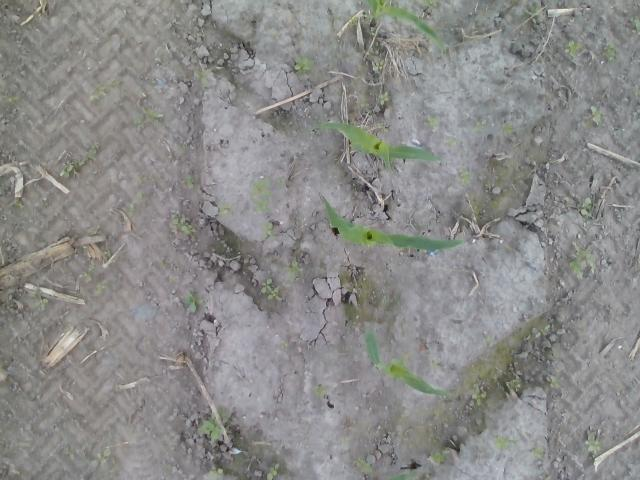Maize: (318, 194, 464, 252), (364, 325, 451, 397), (314, 121, 442, 168), (366, 0, 444, 51), (378, 471, 416, 480)
Weeds: (568, 247, 596, 281), (200, 408, 226, 440), (250, 176, 272, 213), (133, 106, 166, 128), (169, 208, 194, 236), (180, 286, 203, 314), (428, 432, 448, 464), (84, 273, 112, 295), (260, 276, 282, 300), (469, 384, 488, 405), (285, 260, 303, 282), (294, 53, 313, 73), (30, 290, 48, 310), (90, 448, 110, 466), (564, 38, 584, 56), (88, 84, 106, 103), (60, 160, 78, 178), (368, 53, 385, 72), (458, 168, 473, 188), (63, 444, 80, 461), (584, 431, 600, 449), (194, 69, 210, 86), (207, 464, 224, 480), (580, 196, 594, 215), (356, 456, 372, 472), (470, 120, 488, 134), (494, 438, 515, 450), (266, 462, 280, 480), (85, 143, 98, 162), (424, 114, 441, 128), (606, 42, 618, 61), (378, 90, 392, 106), (502, 120, 514, 138), (545, 374, 560, 388), (313, 383, 327, 398), (528, 0, 540, 17), (591, 110, 604, 125), (182, 174, 194, 190), (366, 25, 385, 35), (262, 222, 272, 240), (126, 200, 136, 218), (359, 290, 376, 300), (630, 16, 640, 33), (531, 447, 544, 460), (484, 336, 498, 348), (509, 379, 521, 393), (218, 200, 230, 214), (434, 406, 446, 418), (376, 122, 390, 132), (419, 0, 434, 9), (14, 196, 25, 208), (540, 325, 550, 337), (4, 95, 17, 104), (360, 103, 373, 112), (348, 15, 358, 26), (103, 249, 114, 259), (430, 360, 440, 370), (446, 138, 460, 145), (277, 340, 289, 348), (398, 414, 406, 425), (136, 192, 144, 201), (88, 263, 95, 272), (336, 15, 341, 20)
